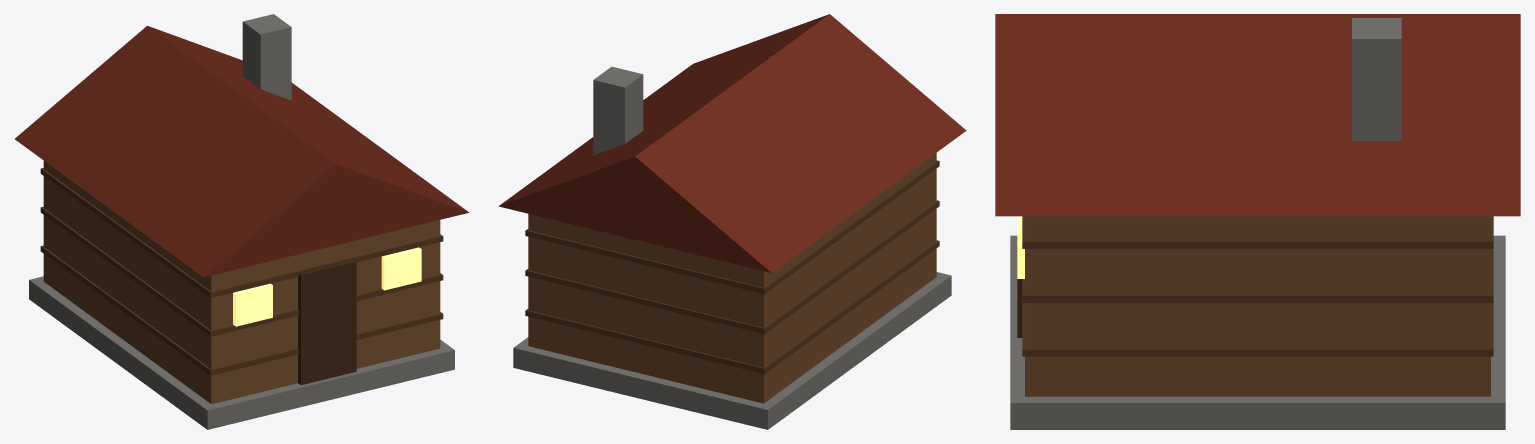
Rendered from cabin.glb.
3 views of the same model, side by side, from view 1: azimuth 30°, elevation 25°; view 2: azimuth 150°, elevation 25°; view 3: azimuth 270°, elevation 25° (orthographic). The views are drawn at different scales.
Parts seen in each view (by area): view 1: cabin; view 2: cabin; view 3: cabin.
Part boxes in pixels (bbox=[...]): cabin: bbox=[15, 14, 468, 429]; cabin: bbox=[498, 14, 966, 429]; cabin: bbox=[995, 14, 1520, 429].
Bounding box in the file's own units: 4.3 × 4.05 × 5.3.
